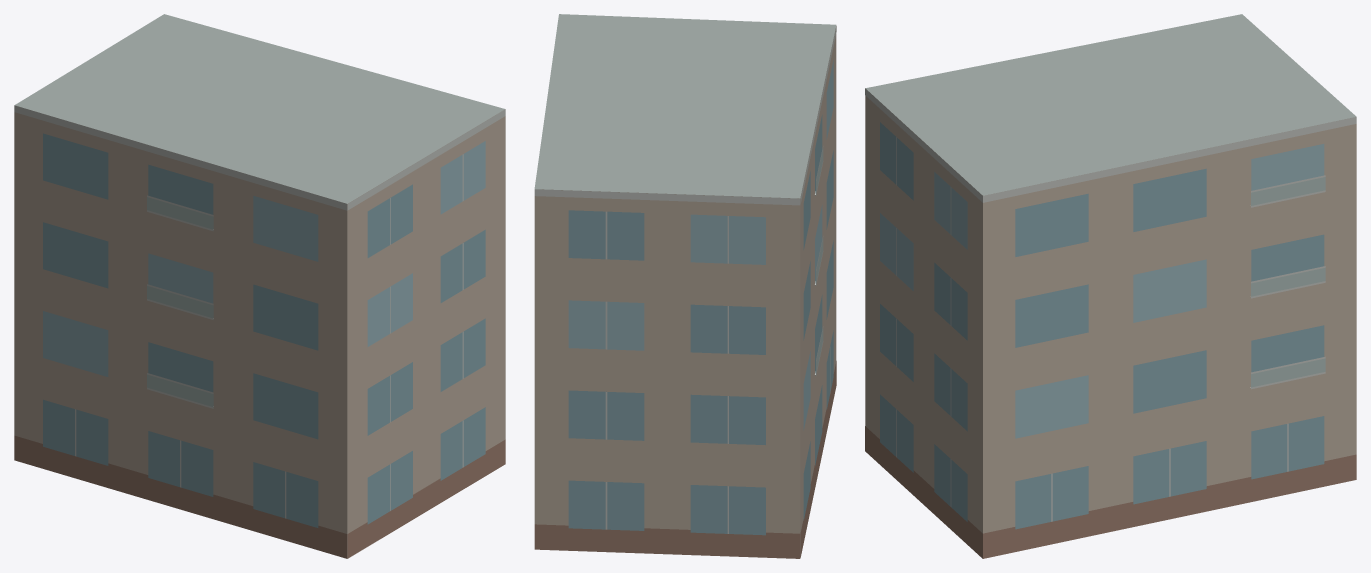
Rendered from survey-upis-32747978.glb.
The picture shows the model from 3 angles, left to right: view 1: azimuth 30°, elevation 25°; view 2: azimuth 150°, elevation 25°; view 3: azimuth 270°, elevation 25°; orthographic projection. The views are drawn at different scales.
Visible parts, largest first — view 1: survey-upis-32747978.tmp; view 2: survey-upis-32747978.tmp; view 3: survey-upis-32747978.tmp.
Boxes of the visible parts, left/top/right/bottom form: survey-upis-32747978.tmp: left=14, top=14, right=505, bottom=558; survey-upis-32747978.tmp: left=534, top=14, right=836, bottom=558; survey-upis-32747978.tmp: left=865, top=14, right=1356, bottom=558.
Bounding box in the file's own units: 13.55 × 12.6 × 15.47.
